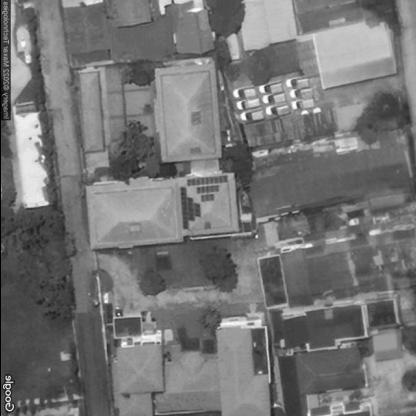solar-pv-panel: (187, 175, 227, 202), (181, 187, 199, 229)
